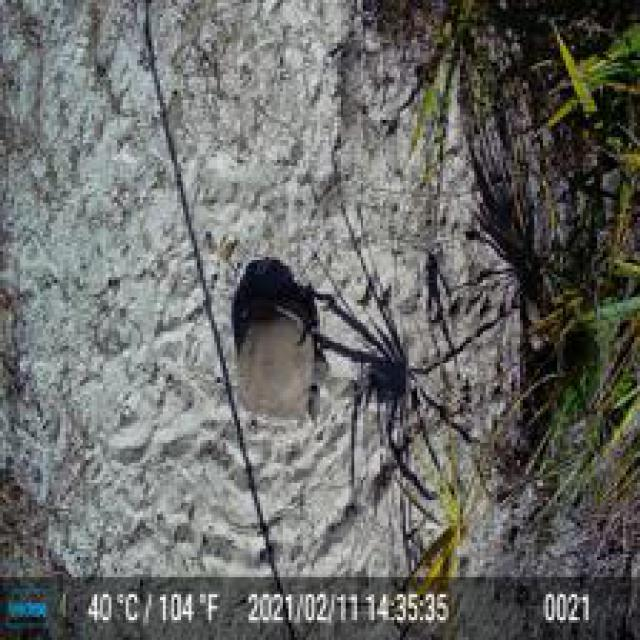tortoise: (225, 294, 328, 429)
